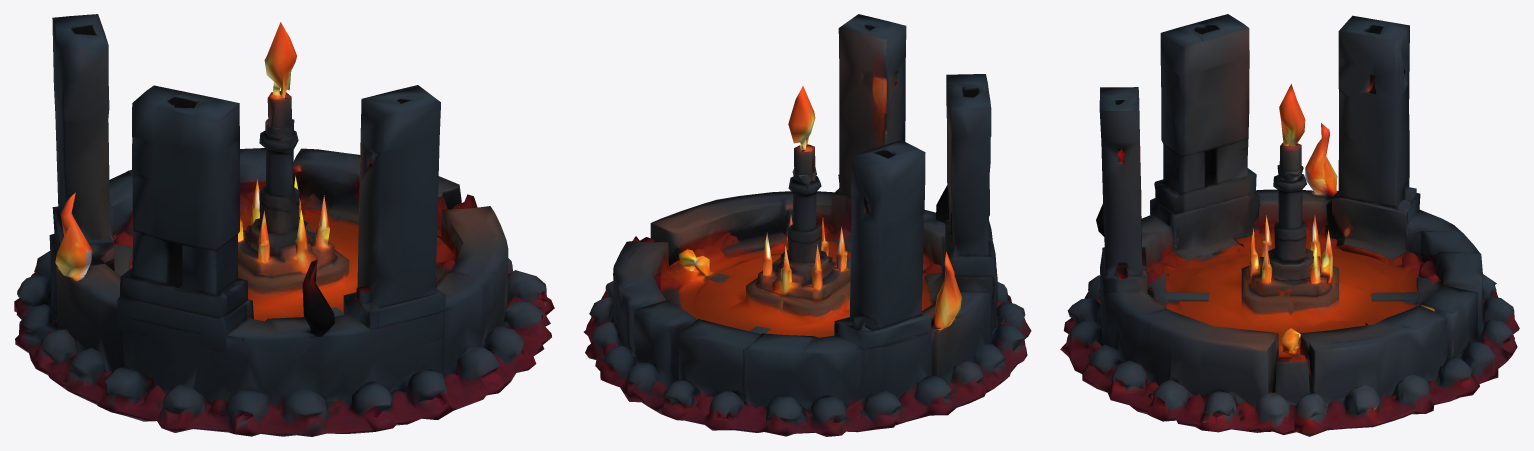
The model's file is lilin-pemanggil-arwah-lvl2.fbx.
The picture shows the model from 3 angles, left to right: view 1: azimuth 30°, elevation 25°; view 2: azimuth 150°, elevation 25°; view 3: azimuth 270°, elevation 25°; orthographic projection. The views are drawn at different scales.
Parts seen in each view (by area): view 1: tripo_node_5c35d0bf; view 2: tripo_node_5c35d0bf; view 3: tripo_node_5c35d0bf.
Part boxes in pixels (x1,y1,x2,y2): tripo_node_5c35d0bf: [14, 14, 554, 436]; tripo_node_5c35d0bf: [584, 14, 1031, 436]; tripo_node_5c35d0bf: [1060, 14, 1519, 436].
Size of the model in its own units: 97.65 by 62.55 by 100.
Materials: 1 (1 with a texture image).
